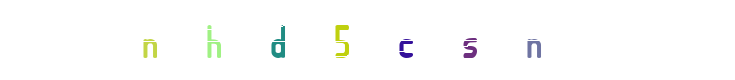5: (269, 0, 349, 80)
C: (328, 0, 408, 80)
D: (239, 0, 319, 80)
H: (225, 0, 305, 80)
N: (190, 0, 270, 80), (454, 0, 534, 80)
S: (400, 0, 480, 80)
